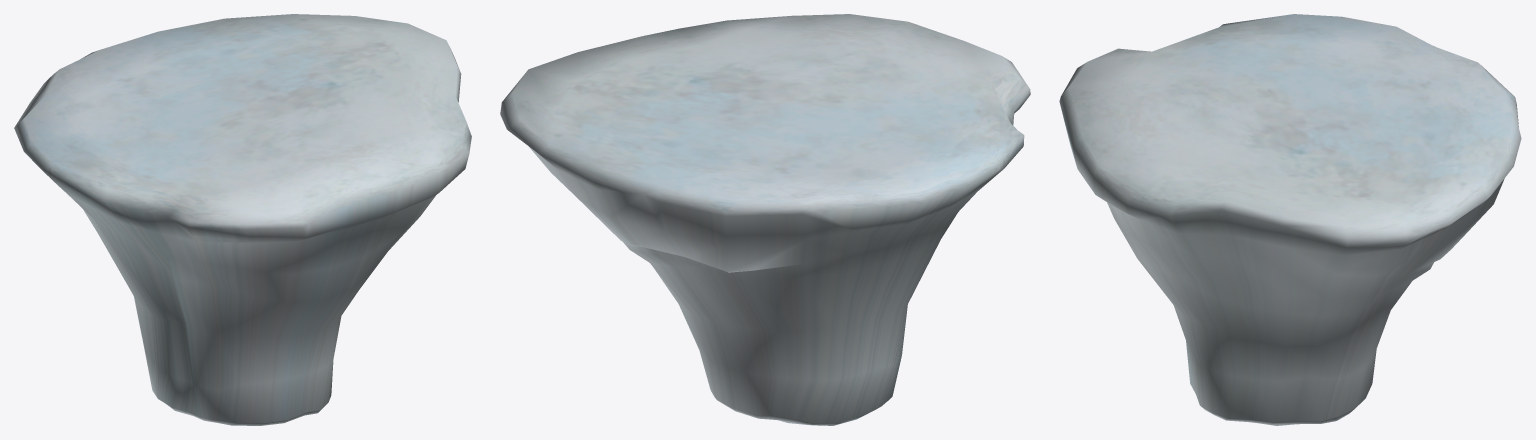
Rendered from P_RockDesert_CliffHalf01.obj.
3 views of the same model, side by side, from view 1: azimuth 30°, elevation 25°; view 2: azimuth 150°, elevation 25°; view 3: azimuth 270°, elevation 25° (orthographic). The views are drawn at different scales.
Size of the model in its own units: 44.87 by 29.13 by 40.4.
